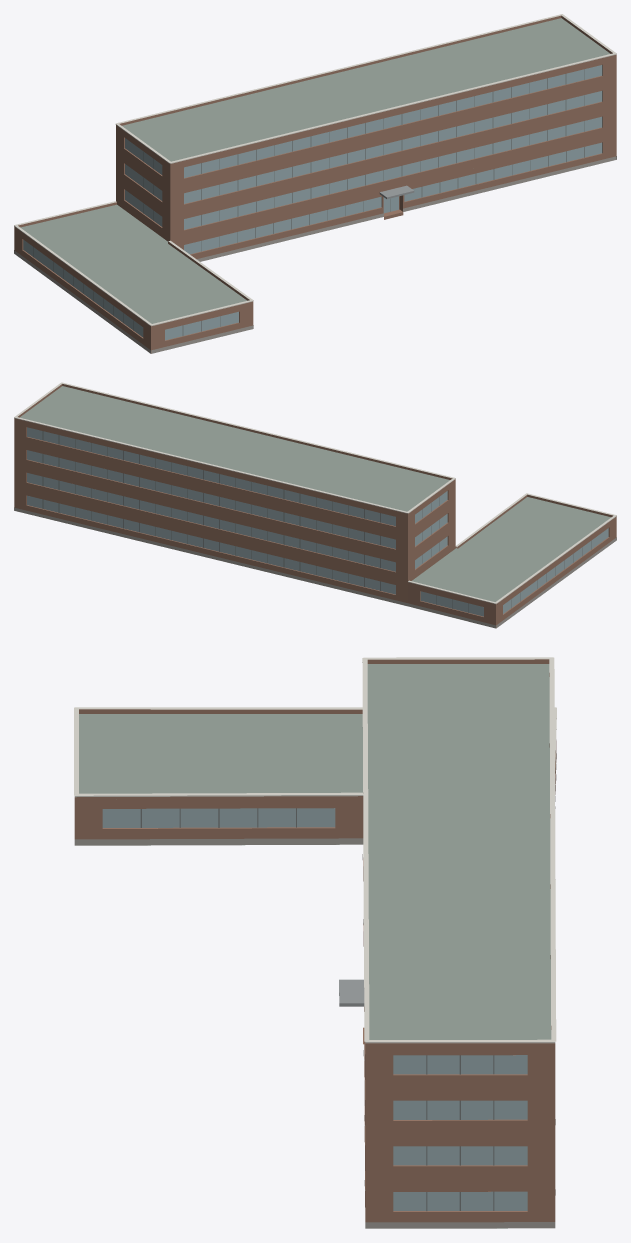
3 views of the same model, one above another, from view 1: azimuth 30°, elevation 25°; view 2: azimuth 150°, elevation 25°; view 3: azimuth 270°, elevation 25° (orthographic). The views are drawn at different scales.
Parts seen in each view (by area): view 1: b115951793__wall, b115951793__roof, b115951793__glass, b115951793__trim, b115951793__parapet, b115951793__base, b115951793__frame; view 2: b115951793__wall, b115951793__roof, b115951793__glass, b115951793__trim, b115951793__parapet, b115951793__base, b115951793__frame; view 3: b115951793__roof, b115951793__wall, b115951793__glass, b115951793__trim, b115951793__parapet, b115951793__base.
Part boxes in pixels (box(x1,y1,x2,y2)): b115951793__wall: box(14, 56, 616, 353); b115951793__roof: box(20, 18, 610, 323); b115951793__glass: box(23, 65, 602, 340); b115951793__trim: box(14, 14, 616, 326); b115951793__parapet: box(14, 15, 616, 327); b115951793__base: box(14, 156, 616, 353); b115951793__frame: box(33, 69, 584, 335); b115951793__wall: box(14, 419, 616, 627); b115951793__roof: box(20, 386, 610, 601); b115951793__glass: box(27, 427, 608, 616); b115951793__trim: box(14, 382, 616, 604); b115951793__parapet: box(14, 384, 616, 605); b115951793__base: box(14, 507, 616, 628); b115951793__frame: box(42, 431, 591, 612); b115951793__roof: box(79, 664, 551, 1228); b115951793__wall: box(74, 741, 556, 1222); b115951793__glass: box(102, 808, 527, 1210); b115951793__trim: box(74, 657, 556, 1043); b115951793__parapet: box(74, 659, 555, 1046); b115951793__base: box(74, 753, 556, 1228).
Bounding box in the file's own units: 79.9 × 15.15 × 34.62.
